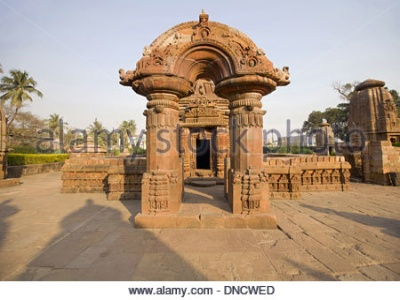torana: (106, 7, 296, 217)
